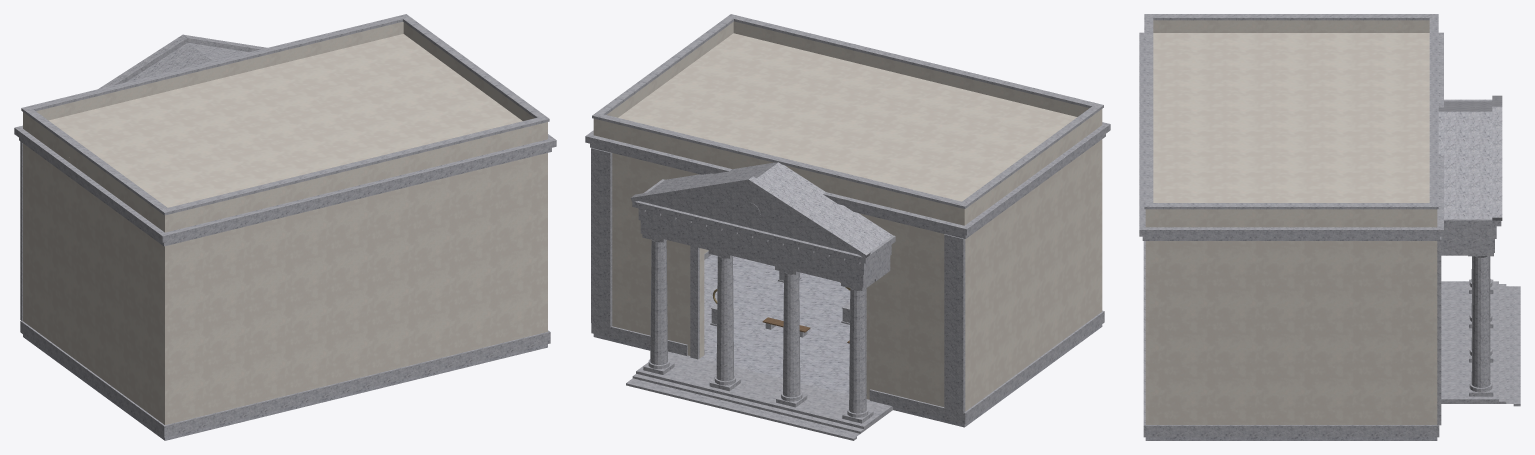
Rendered from hall_museum.glb.
3 views of the same model, side by side, from view 1: azimuth 30°, elevation 25°; view 2: azimuth 150°, elevation 25°; view 3: azimuth 270°, elevation 25° (orthographic). The views are drawn at different scales.
Parts seen in each view (by area): view 1: Shell, Trim, Floor; view 2: Shell, Trim, Floor; view 3: Shell, Trim, Floor.
Part boxes in pixels (x1,y1,x2,y2): Shell: (23,22,547,424); Trim: (14,14,556,437); Floor: (23,334,547,440); Shell: (593,21,1102,411); Trim: (585,14,1110,440); Floor: (593,254,1102,427); Shell: (1145,20,1437,424); Trim: (1139,14,1520,437); Floor: (1145,437,1437,440).
Size of the model in its own units: 28.8 by 16.39 by 23.55.
8 materials, 7 textured.
